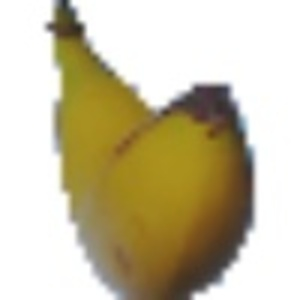banana: (37, 3, 268, 298)
